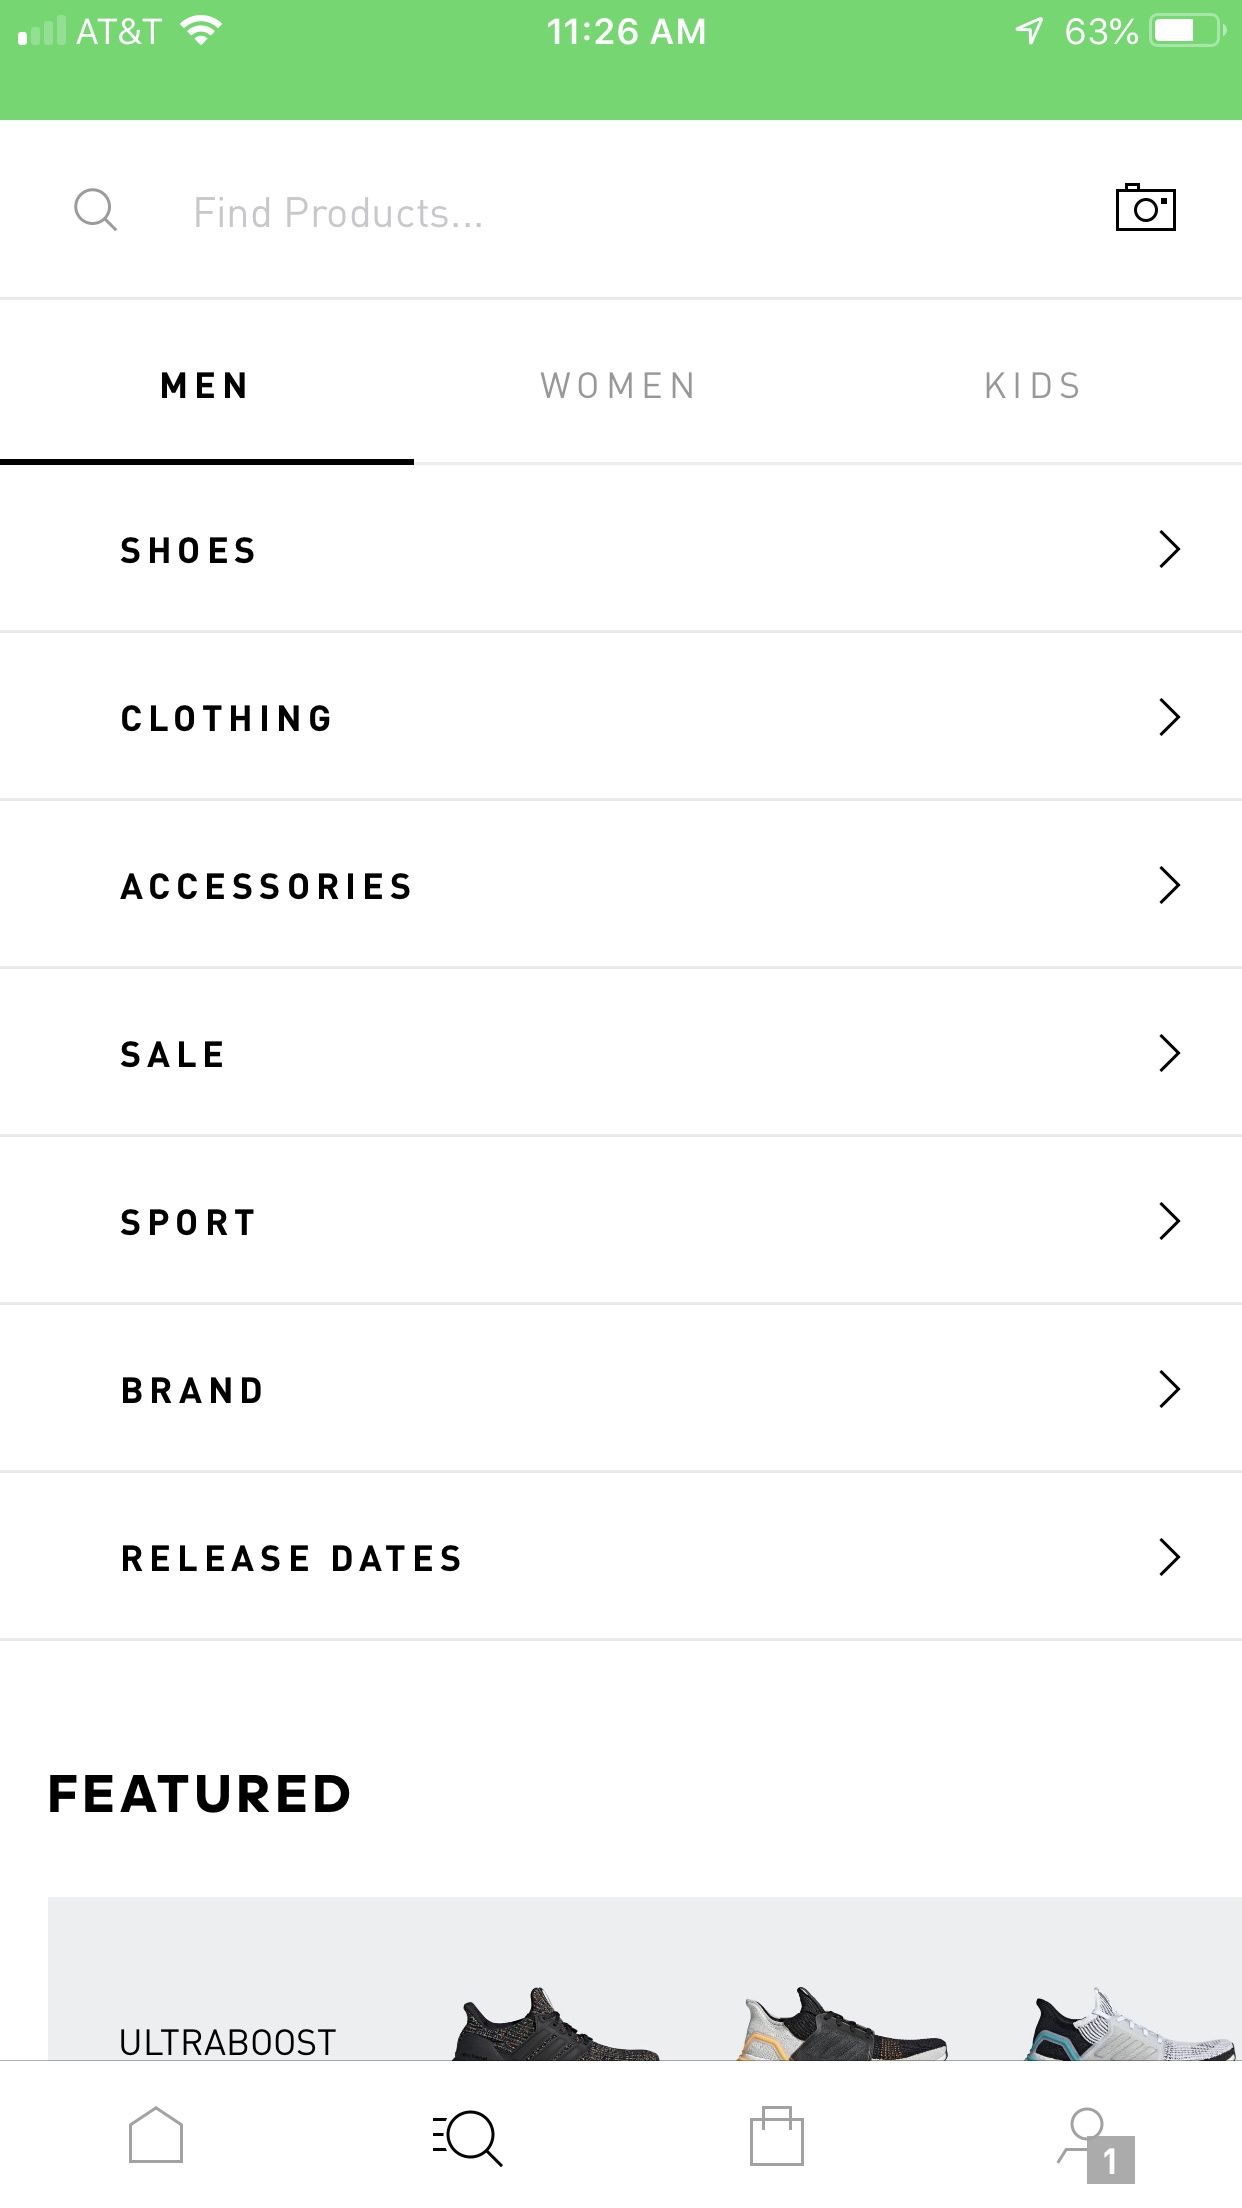Icon: (1055, 2106, 1136, 2185), (434, 2109, 503, 2169), (749, 2105, 805, 2167), (129, 2105, 185, 2164), (1116, 183, 1177, 234), (74, 190, 118, 234), (1159, 864, 1181, 905), (1159, 1033, 1181, 1074), (1159, 529, 1181, 569), (1159, 698, 1181, 737), (1159, 1369, 1181, 1409), (1159, 1538, 1181, 1577), (1159, 1203, 1181, 1240)
Image: (737, 1987, 949, 2061), (1024, 1987, 1236, 2061), (453, 1987, 661, 2061)
Text: (50, 1774, 350, 1814), (123, 1544, 461, 1573), (196, 196, 482, 229), (120, 873, 411, 901), (121, 2028, 337, 2056), (121, 704, 331, 732), (540, 372, 693, 400), (121, 1375, 262, 1404), (121, 537, 255, 566), (121, 1209, 256, 1236), (121, 1040, 224, 1069), (986, 372, 1080, 400), (162, 372, 247, 400)
UpperTaskBar: (2, 2, 1242, 49)
